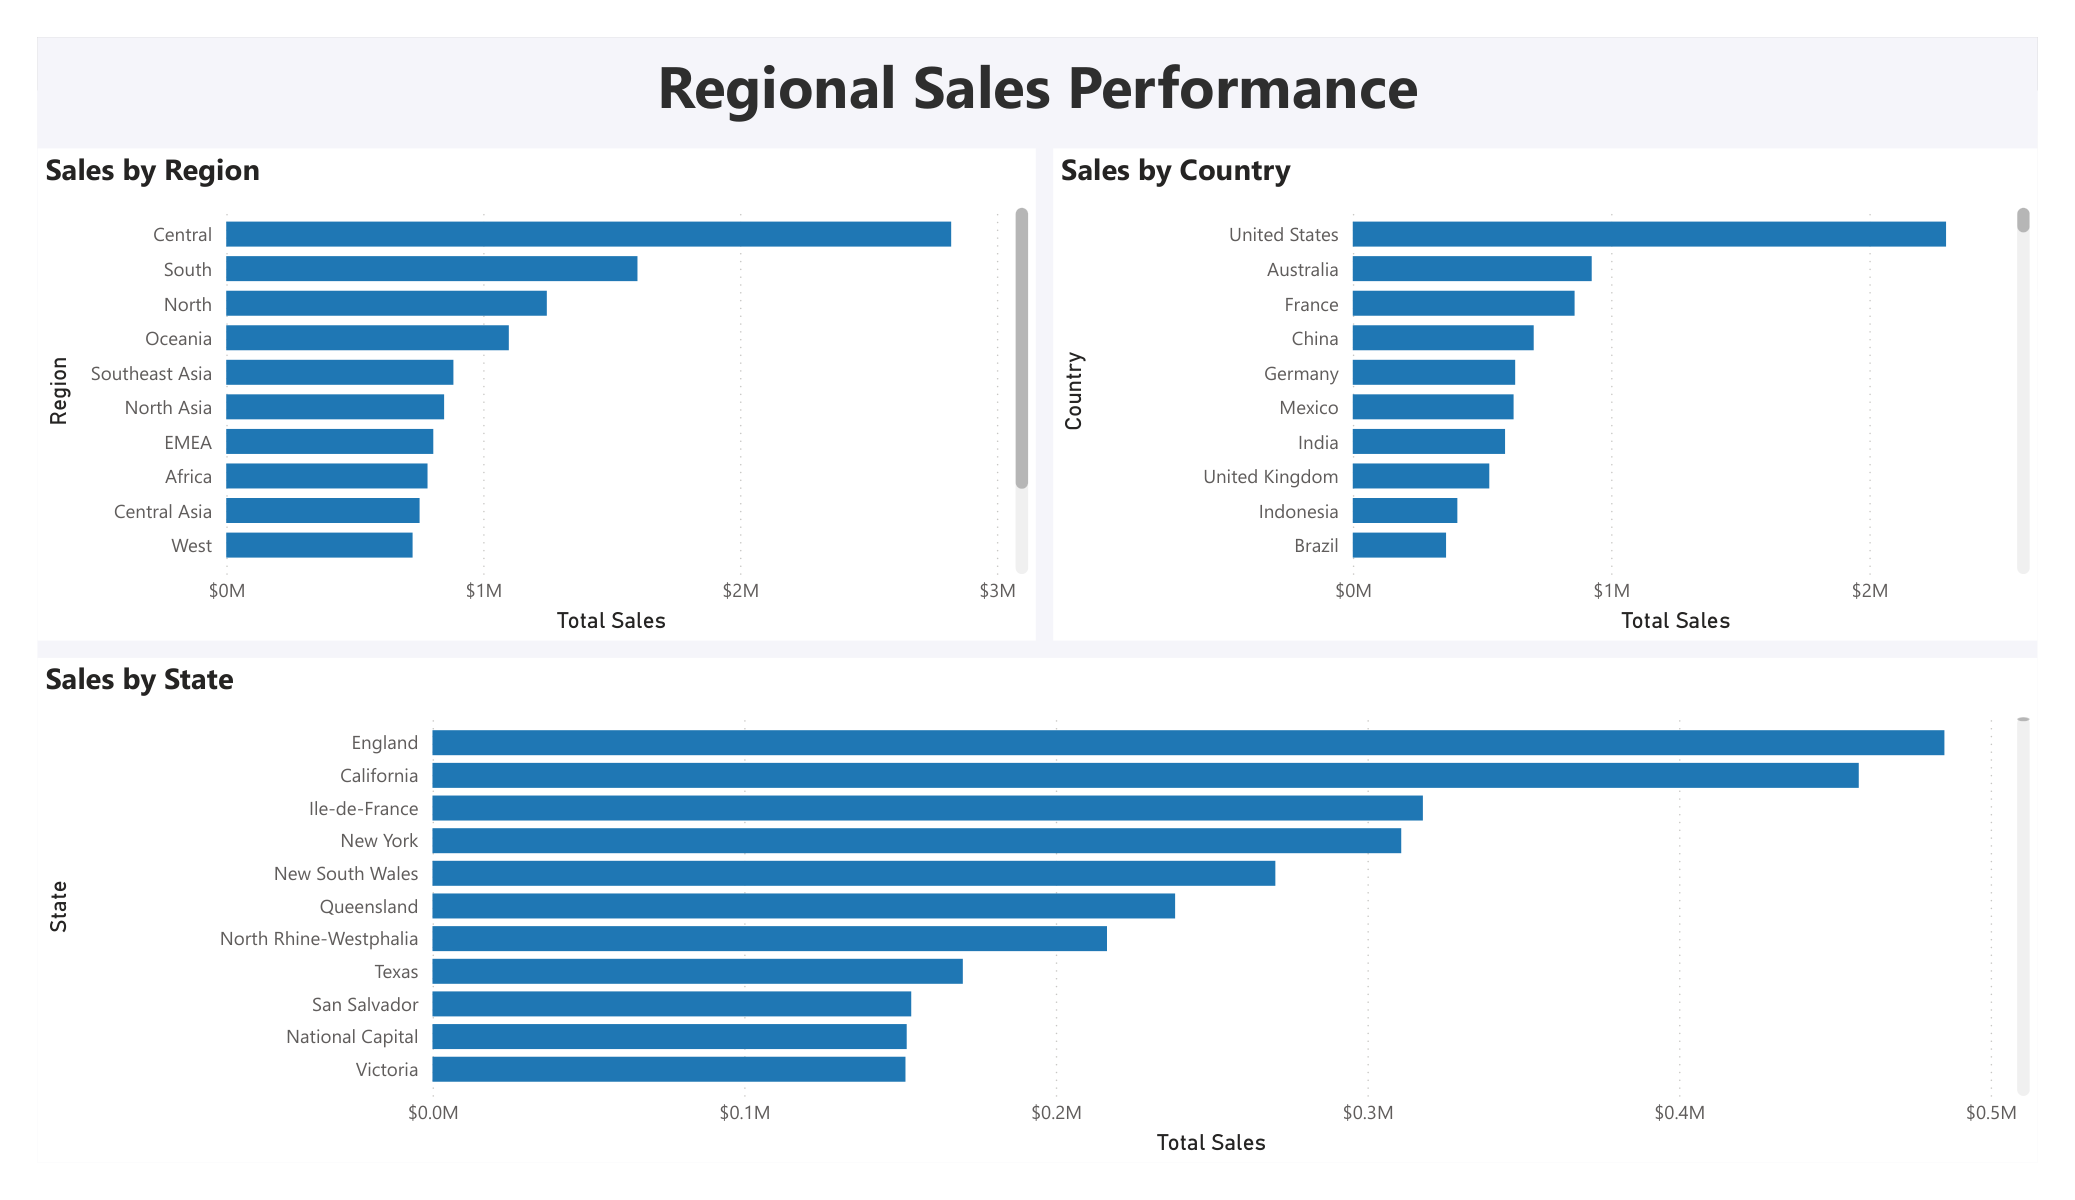

This screenshot's page, from the dashboard's own definition file:
{"tool":"powerbi","page":{"name":"Regional Analysis","canvas":[1280,720],"ordinal":2},"visuals":[{"type":"clusteredBarChart","title":"Sales by Region","fields":{"Category":["Global_Superstore2.Region"],"Y":["DateTable.Total Sales"]},"box":[0,71.4,639.5,314.2],"z":0},{"type":"clusteredBarChart","title":"Sales by Country","fields":{"Category":["Global_Superstore2.Country"],"Y":["DateTable.Total Sales"]},"box":[650.4,71.4,629.8,314.2],"z":1000},{"type":"clusteredBarChart","title":"Sales by State","fields":{"Category":["Global_Superstore2.State"],"Y":["DateTable.Total Sales"]},"box":[0,396.6,1280.3,323.8],"z":2000},{"type":"textbox","box":[0,0,1280.3,61.7],"z":8000}]}

Visuals, with their boxes on the page's 1280x720 design canvas (x1, y1, x2, y2). These are canvas units, not pixel positions in the 2075x1200 screenshot, which may show the page scaled, cropped or inside an application window:
"Sales by Region" clusteredBarChart: l=0, t=71, r=640, b=386
"Sales by Country" clusteredBarChart: l=650, t=71, r=1280, b=386
"Sales by State" clusteredBarChart: l=0, t=397, r=1280, b=720
textbox: l=0, t=0, r=1280, b=62
